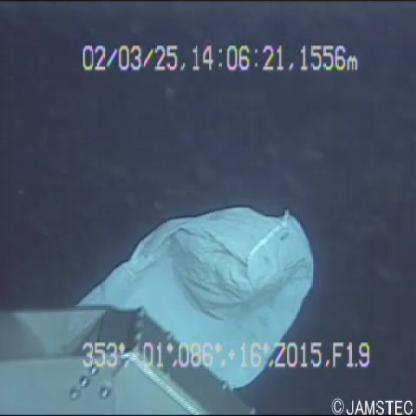Rov: (1, 298, 266, 414)
Rác: (67, 162, 311, 393)
